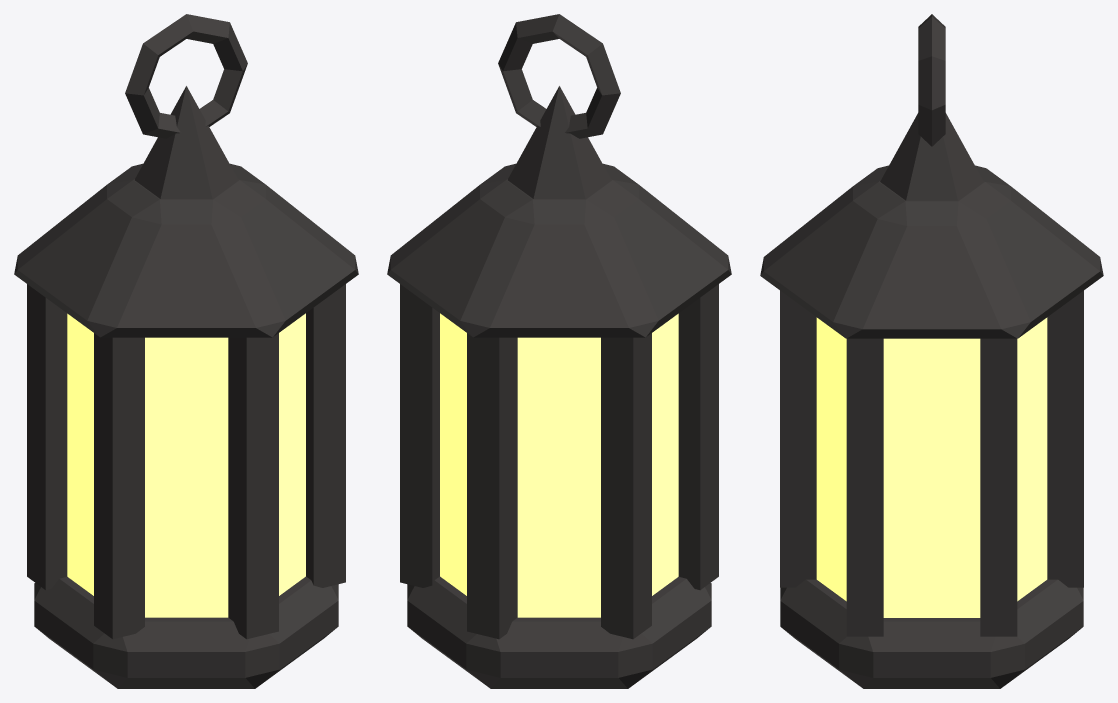
Rendered from small_lantern.glb.
3 views of the same model, side by side, from view 1: azimuth 30°, elevation 25°; view 2: azimuth 150°, elevation 25°; view 3: azimuth 270°, elevation 25° (orthographic).
Parts seen in each view (by area): view 1: small_lantern; view 2: small_lantern; view 3: small_lantern.
Part boxes in pixels (bbox=[...]): small_lantern: bbox=[14, 14, 358, 688]; small_lantern: bbox=[387, 14, 731, 688]; small_lantern: bbox=[760, 14, 1103, 688].
Bounding box in the file's own units: 0.1351 × 0.301 × 0.1505.
